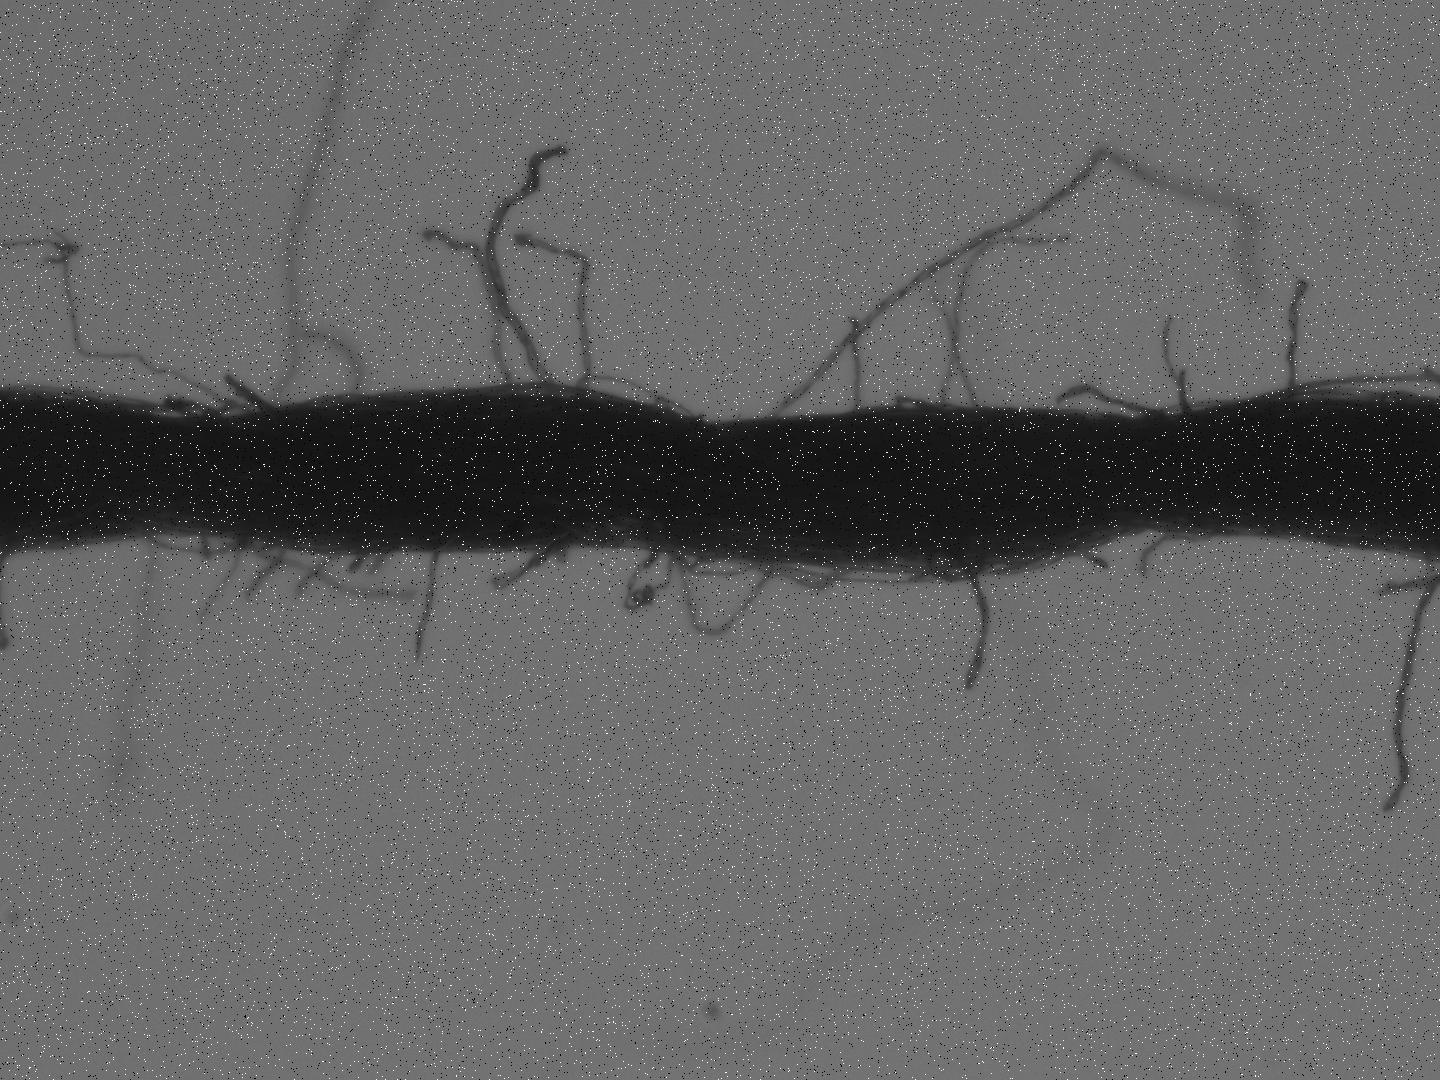loop_fiber: (675, 533, 779, 636), (579, 373, 700, 424), (736, 555, 858, 596), (890, 390, 981, 419), (923, 554, 1001, 584)
protruding_fiber: (1051, 380, 1170, 419), (412, 541, 447, 660), (1284, 273, 1314, 395)
